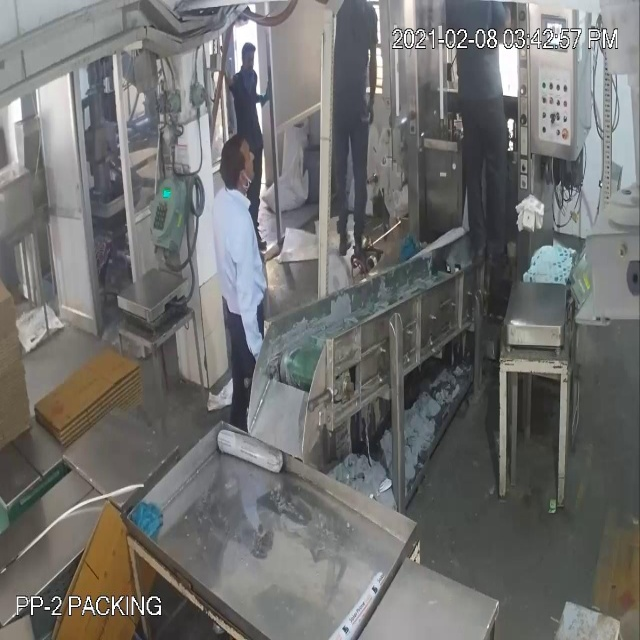Sin_guantes: (232, 224, 271, 372), (364, 19, 381, 141)
